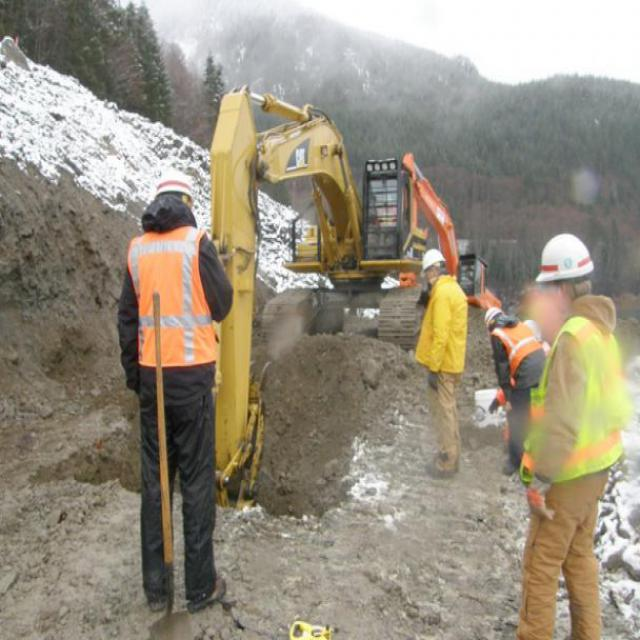gloves: (516, 474, 552, 522), (421, 364, 438, 390)
helmet: (531, 226, 603, 301), (142, 166, 202, 222), (417, 246, 445, 281), (480, 292, 502, 332)
vest: (539, 317, 627, 495), (122, 233, 220, 374), (487, 327, 540, 385)
